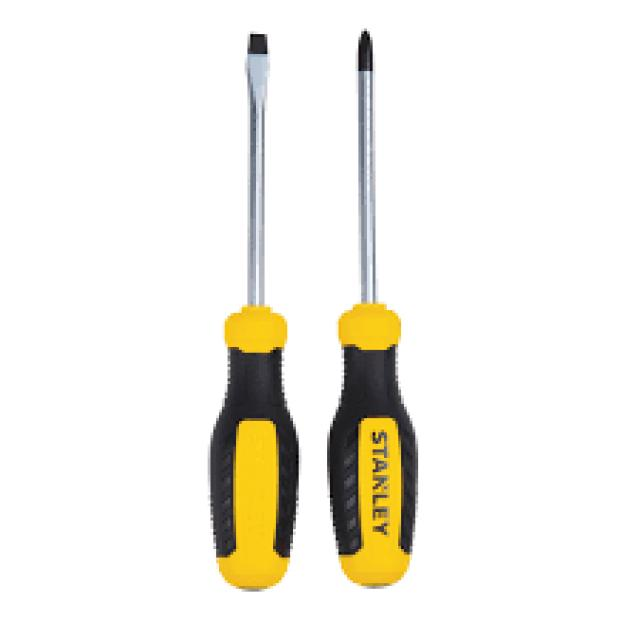screw driver: (180, 20, 318, 595), (320, 19, 424, 594)
